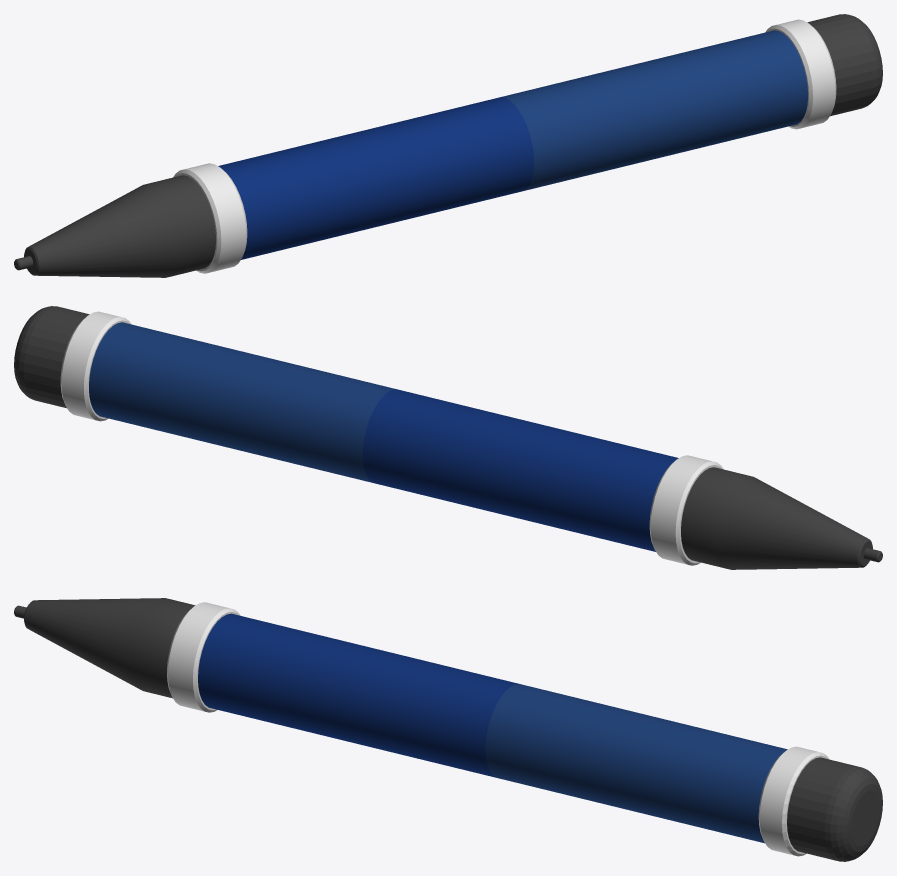
The model's file is marker.fbx.
3 renders of one model, top to bottom at view 1: azimuth 30°, elevation 25°; view 2: azimuth 150°, elevation 25°; view 3: azimuth 330°, elevation 25°, orthographic.
Parts seen in each view (by area): view 1: Circle; view 2: Circle; view 3: Circle.
Boxes of the visible parts, x1=… form: Circle: x1=14, y1=14, x2=882, y2=277; Circle: x1=14, y1=306, x2=882, y2=569; Circle: x1=14, y1=598, x2=882, y2=861.
Size of the model in its own units: 15 by 1.63 by 1.63.
